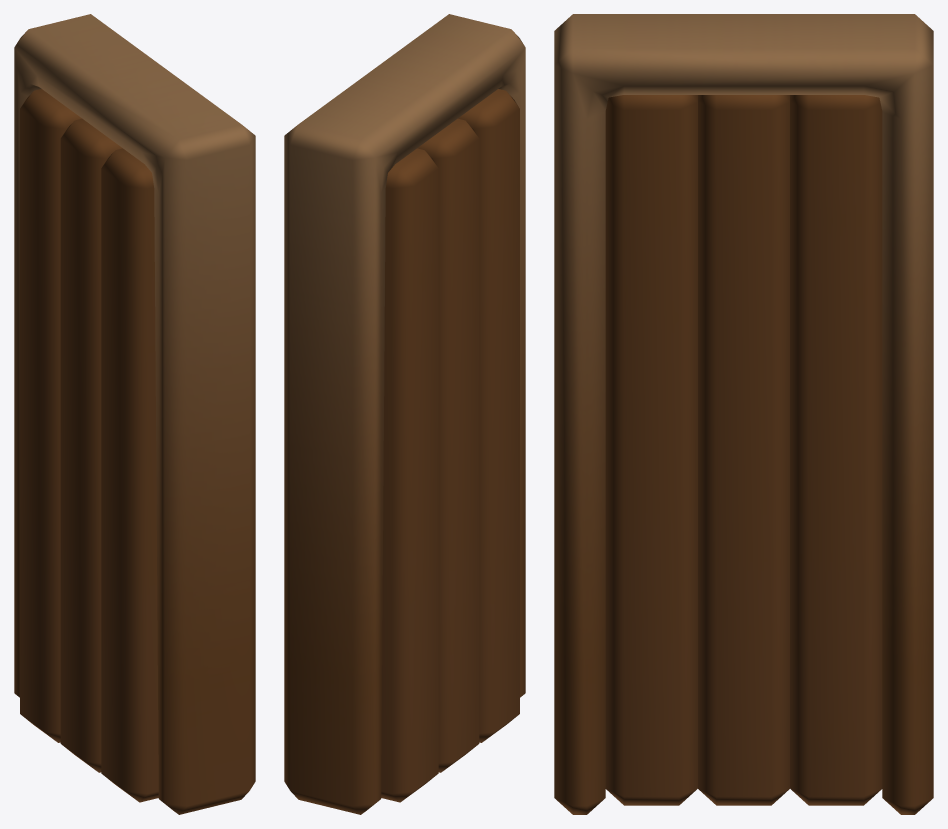
Rendered from SM_Clay_Door_06.fbx.
The picture shows the model from 3 angles, left to right: view 1: azimuth 30°, elevation 25°; view 2: azimuth 150°, elevation 25°; view 3: azimuth 270°, elevation 25°; orthographic projection. The views are drawn at different scales.
Parts seen in each view (by area): view 1: SM_Clay_Door_06; view 2: SM_Clay_Door_06; view 3: SM_Clay_Door_06.
Part boxes in pixels (x1,y1,x2,y2): SM_Clay_Door_06: (14,14,255,814); SM_Clay_Door_06: (284,14,525,814); SM_Clay_Door_06: (554,14,933,814).
Bounding box in the file's own units: 0.109 × 0.6533 × 0.2929.
